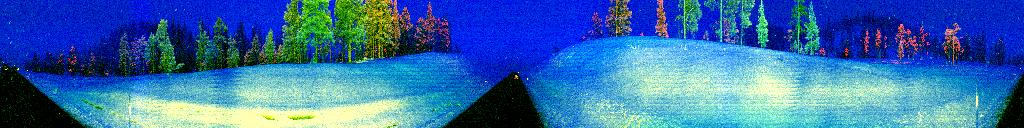pole: (126, 86, 133, 128), (974, 80, 980, 127)
